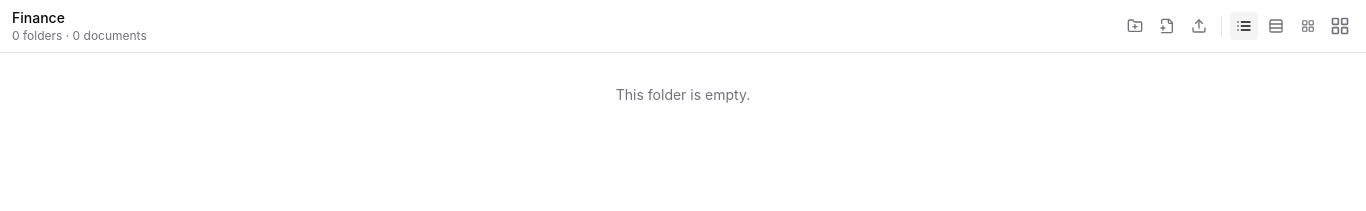
Test: FolderContents whitespace context menu › opens the folder background menu on a whitespace right-click
The image size is (1366, 211).
Right-click the text "This folder is empty." at (683, 94), box [616,86,750,103]
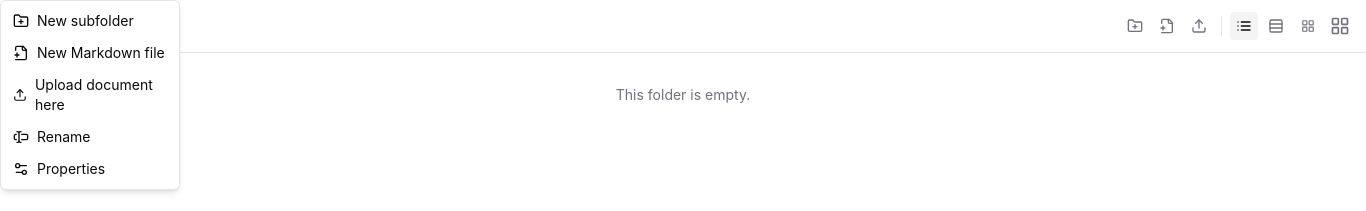
Expected: the menu item "New subfolder" is shown, [5,5,175,37]
Expected: the menu item "New Markdown file" is shown, [5,37,175,69]
Expected: the menu item "Upload document here" is shown, [5,69,175,121]
